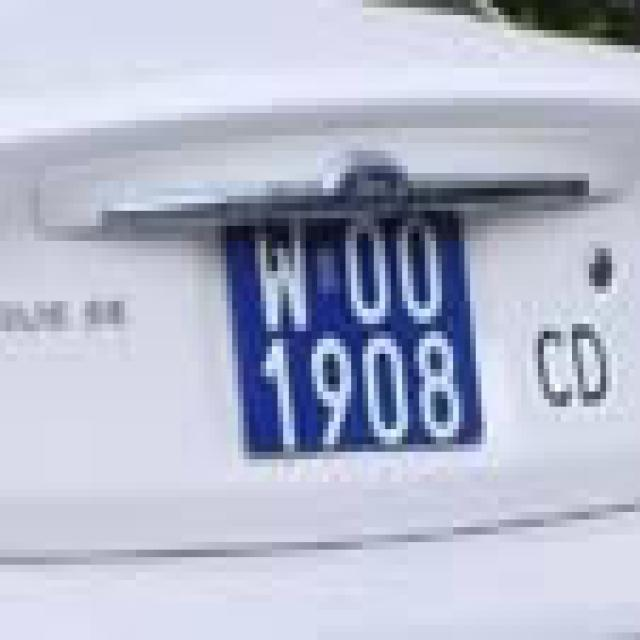pl_license_plate: (221, 203, 481, 452)
